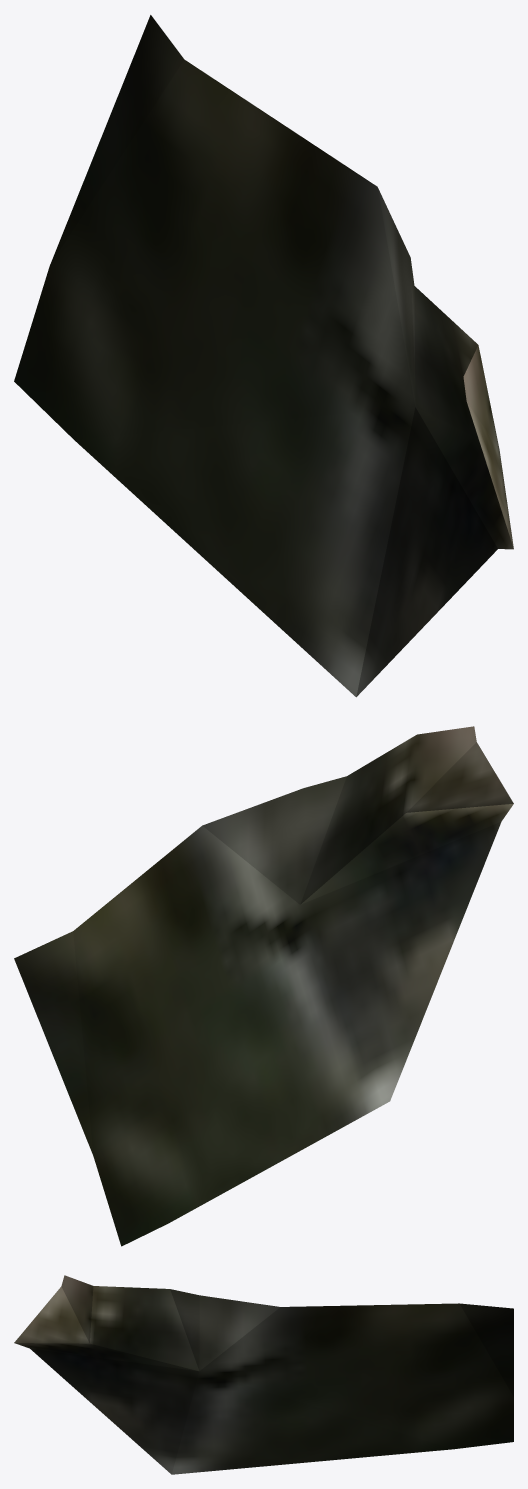
3 renders of one model, top to bottom at view 1: azimuth 30°, elevation 25°; view 2: azimuth 150°, elevation 25°; view 3: azimuth 270°, elevation 25°, orthographic. The views are drawn at different scales.
Bounding box in the file's own units: 0.073 × 0.2038 × 0.4626.
Materials: 1 (1 with a texture image).
